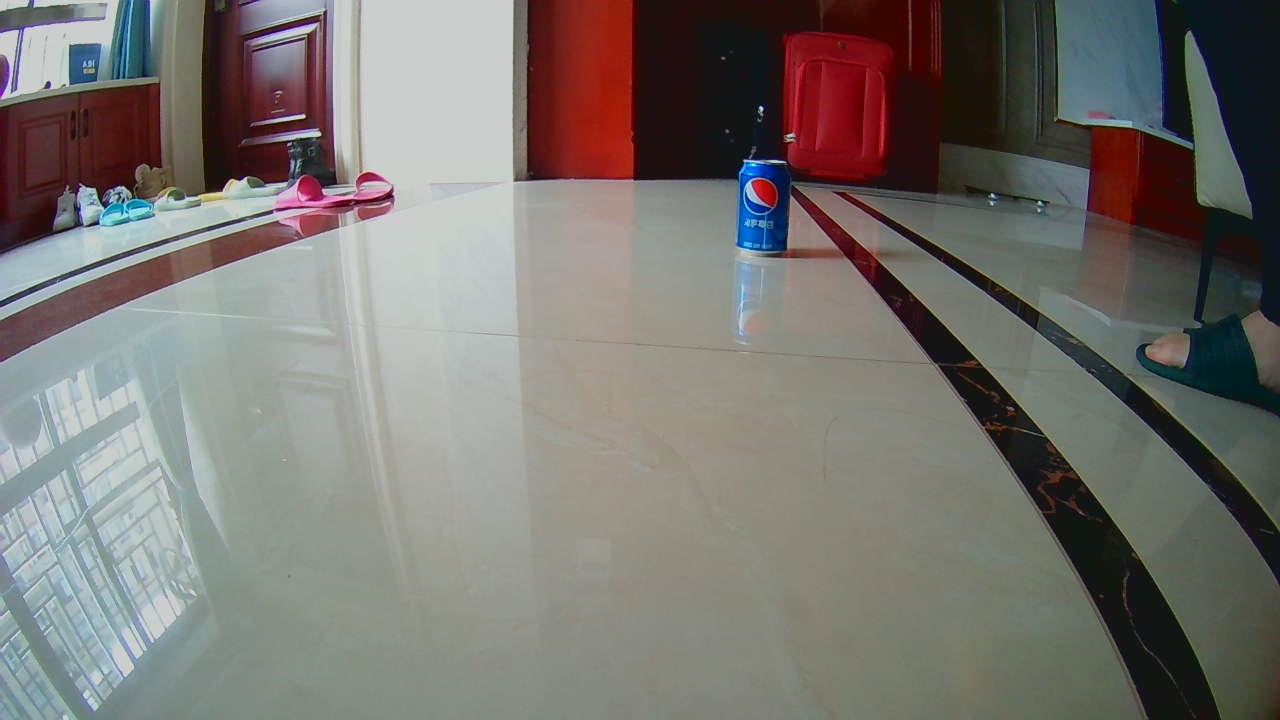pessi: (735, 156, 789, 254)
